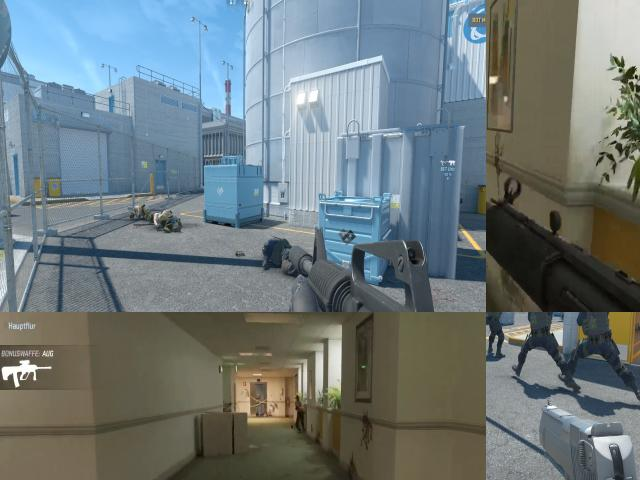Bomb: (234, 246, 245, 260)
CT: (582, 312, 611, 374), (530, 312, 552, 387), (488, 312, 505, 359)
Dead: (257, 234, 313, 277), (147, 216, 181, 235), (129, 202, 156, 220), (158, 207, 181, 223)
T: (292, 392, 304, 432)
T-Head: (294, 395, 303, 406)
